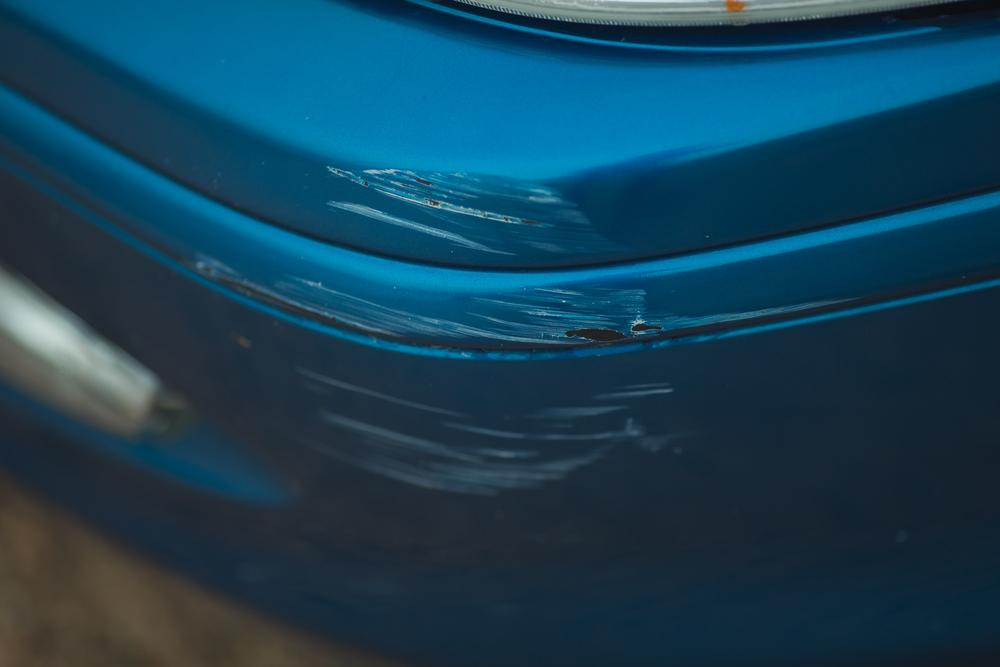scratch: (186, 158, 856, 512)
